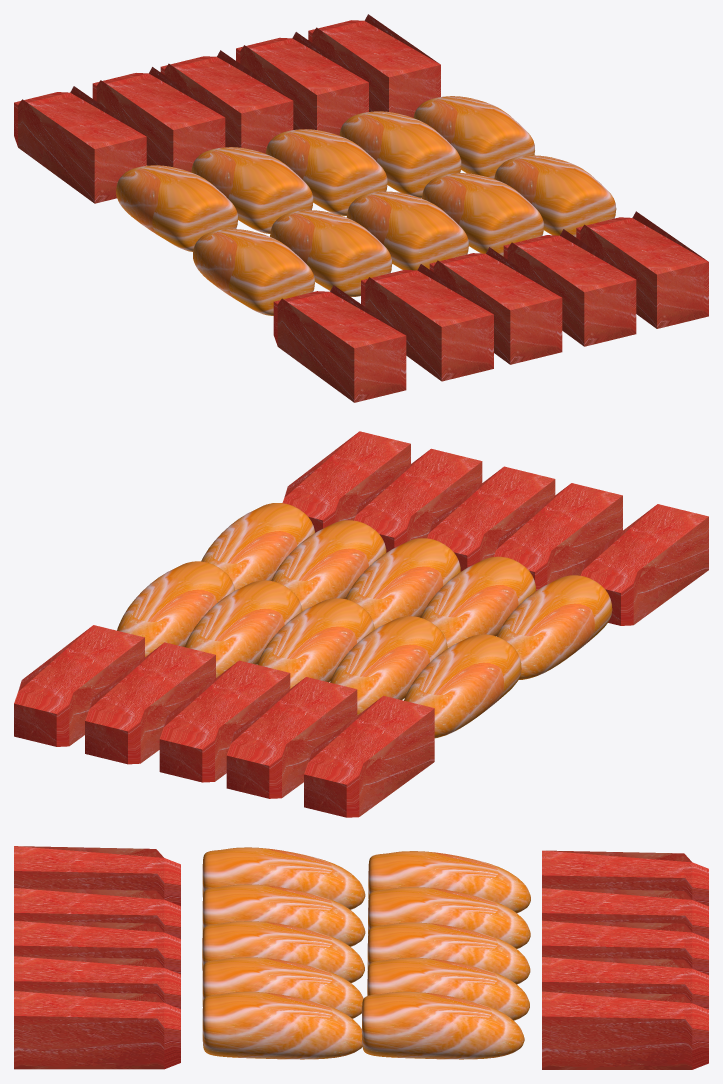
File: sashimi.fbx
3 renders of one model, top to bottom at view 1: azimuth 30°, elevation 25°; view 2: azimuth 150°, elevation 25°; view 3: azimuth 270°, elevation 25°, orthographic.
Parts seen in each view (by area): view 1: pasted__pCube3 (×4), pasted__pasted__pCube3 (×4), pasted__pasted__polySurface2 (×2), pasted__pasted__pasted__polySurface2 (×2), pCube3, pasted__pasted__pasted__pCube3, pasted__polySurface2, pasted__pasted__polySurface3, pasted__polySurface4, pasted__polySurface5, pasted__polySurface3, pasted__polySurface6; view 2: pasted__pasted__pCube3 (×4), pasted__pCube3 (×4), pasted__pasted__polySurface2 (×2), pasted__pasted__pasted__polySurface2 (×2), pCube3, pasted__pasted__pasted__pCube3, pasted__polySurface2, pasted__pasted__polySurface3, pasted__polySurface4, pasted__polySurface6, pasted__polySurface3, pasted__polySurface5; view 3: pasted__pasted__pCube3 (×4), pasted__pCube3 (×4), pasted__pasted__polySurface2 (×2), pasted__pasted__pasted__polySurface2 (×2), pasted__pasted__pasted__pCube3, pCube3, pasted__polySurface2, pasted__polySurface3, pasted__pasted__polySurface3, pasted__polySurface4, pasted__polySurface5, pasted__polySurface6.
Boxes of the visible parts, <box> form: pasted__pCube3 (×4): <box>14,86,636,381</box>; pasted__pasted__pCube3 (×4): <box>92,32,708,328</box>; pasted__pasted__polySurface2 (×2): <box>270,96,534,296</box>; pasted__pasted__pasted__polySurface2 (×2): <box>422,155,616,256</box>; pCube3: <box>273,285,406,402</box>; pasted__pasted__pasted__pCube3: <box>308,14,440,117</box>; pasted__polySurface2: <box>193,229,314,315</box>; pasted__pasted__polySurface3: <box>116,165,238,251</box>; pasted__polySurface4: <box>191,147,313,233</box>; pasted__polySurface5: <box>265,129,387,216</box>; pasted__polySurface3: <box>346,191,468,270</box>; pasted__polySurface6: <box>339,111,461,198</box>; pasted__pasted__pCube3 (×4): <box>85,431,410,798</box>; pasted__pCube3 (×4): <box>304,448,622,817</box>; pasted__pasted__polySurface2 (×2): <box>117,556,535,656</box>; pasted__pasted__pasted__polySurface2 (×2): <box>201,503,386,611</box>; pCube3: <box>580,504,708,625</box>; pasted__pasted__pasted__pCube3: <box>14,625,144,746</box>; pasted__polySurface2: <box>497,575,612,679</box>; pasted__pasted__polySurface3: <box>404,634,521,738</box>; pasted__polySurface4: <box>330,616,447,715</box>; pasted__polySurface6: <box>185,580,302,677</box>; pasted__polySurface3: <box>345,538,460,629</box>; pasted__polySurface5: <box>257,598,374,688</box>; pasted__pasted__pCube3 (×4): <box>14,888,708,1069</box>; pasted__pCube3 (×4): <box>14,850,708,1008</box>; pasted__pasted__polySurface2 (×2): <box>202,884,524,1059</box>; pasted__pasted__pasted__polySurface2 (×2): <box>202,957,363,1059</box>; pasted__pasted__pasted__pCube3: <box>542,991,708,1069</box>; pCube3: <box>14,846,180,905</box>; pasted__polySurface2: <box>202,847,365,909</box>; pasted__polySurface3: <box>202,921,364,982</box>; pasted__pasted__polySurface3: <box>368,851,530,912</box>; pasted__polySurface4: <box>368,887,530,948</box>; pasted__polySurface5: <box>367,922,530,984</box>; pasted__polySurface6: <box>367,957,529,1020</box>.
Bounding box in the file's own units: 10.96 × 1.75 × 18.17.
Materials: 20 (20 with a texture image).
